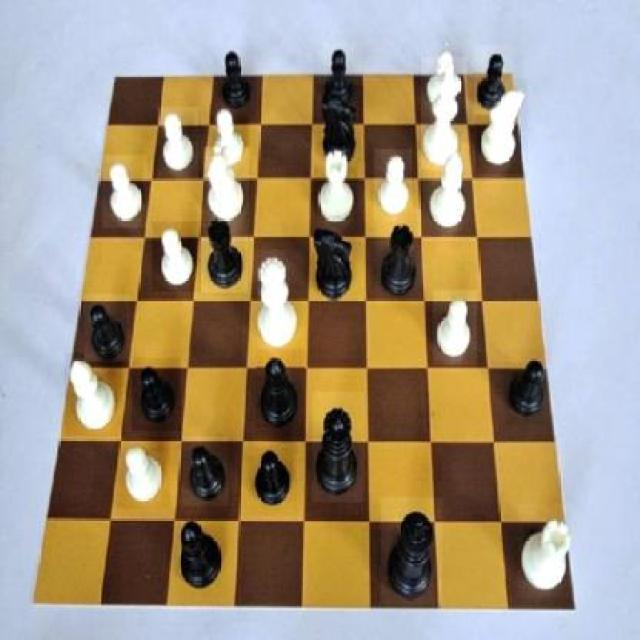bishop: (168, 511, 228, 597), (257, 351, 306, 438)
black-bishop: (380, 497, 442, 605)
black-king: (308, 220, 360, 304), (312, 84, 365, 166)
black-knight: (249, 441, 297, 517), (132, 358, 180, 432), (504, 350, 550, 426), (183, 436, 229, 506), (212, 46, 256, 117), (84, 294, 130, 361), (318, 42, 362, 112), (474, 46, 514, 116)
black-pawn: (312, 392, 365, 502)
black-queen: (377, 210, 423, 306), (202, 211, 248, 293)
black-rook: (64, 354, 124, 437), (423, 145, 475, 240)
white-bishop: (420, 57, 467, 170)
white-king: (477, 78, 529, 174), (204, 147, 250, 226)
white-knight: (117, 438, 171, 509), (152, 222, 200, 292), (434, 291, 478, 366), (103, 156, 148, 228), (158, 108, 198, 178), (374, 150, 411, 222), (209, 105, 249, 169), (422, 46, 459, 114)
white-pawn: (252, 250, 305, 358)
white-queen: (518, 504, 574, 598), (316, 142, 360, 228)
